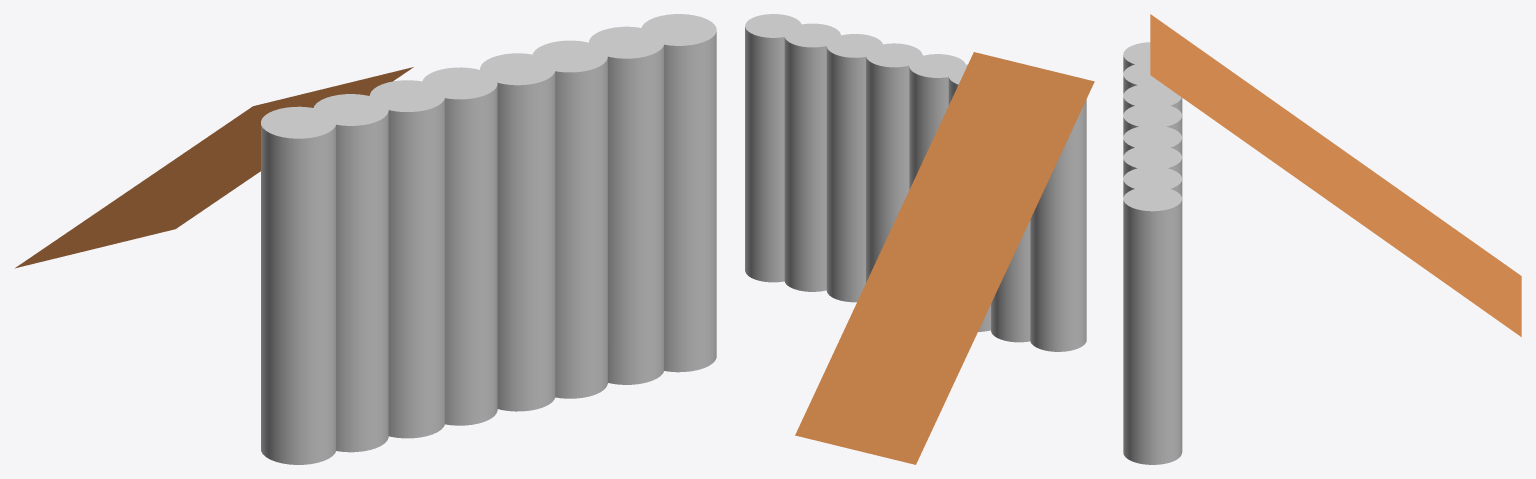
The model's file is wood.fbx.
3 views of the same model, side by side, from view 1: azimuth 30°, elevation 25°; view 2: azimuth 150°, elevation 25°; view 3: azimuth 270°, elevation 25° (orthographic). The views are drawn at different scales.
Parts seen in each view (by area): view 1: Cylinder.007, Plane; view 2: Cylinder.007, Plane; view 3: Cylinder.007, Plane.
Part boxes in pixels (box(x1,y1,x2,y2)): Cylinder.007: box(261, 14, 716, 464); Plane: box(15, 67, 413, 268); Cylinder.007: box(745, 14, 1086, 351); Plane: box(795, 52, 1094, 464); Cylinder.007: box(1123, 42, 1182, 464); Plane: box(1150, 14, 1521, 336).
Bounding box in the file's own units: 1403 × 1035 × 1353.
